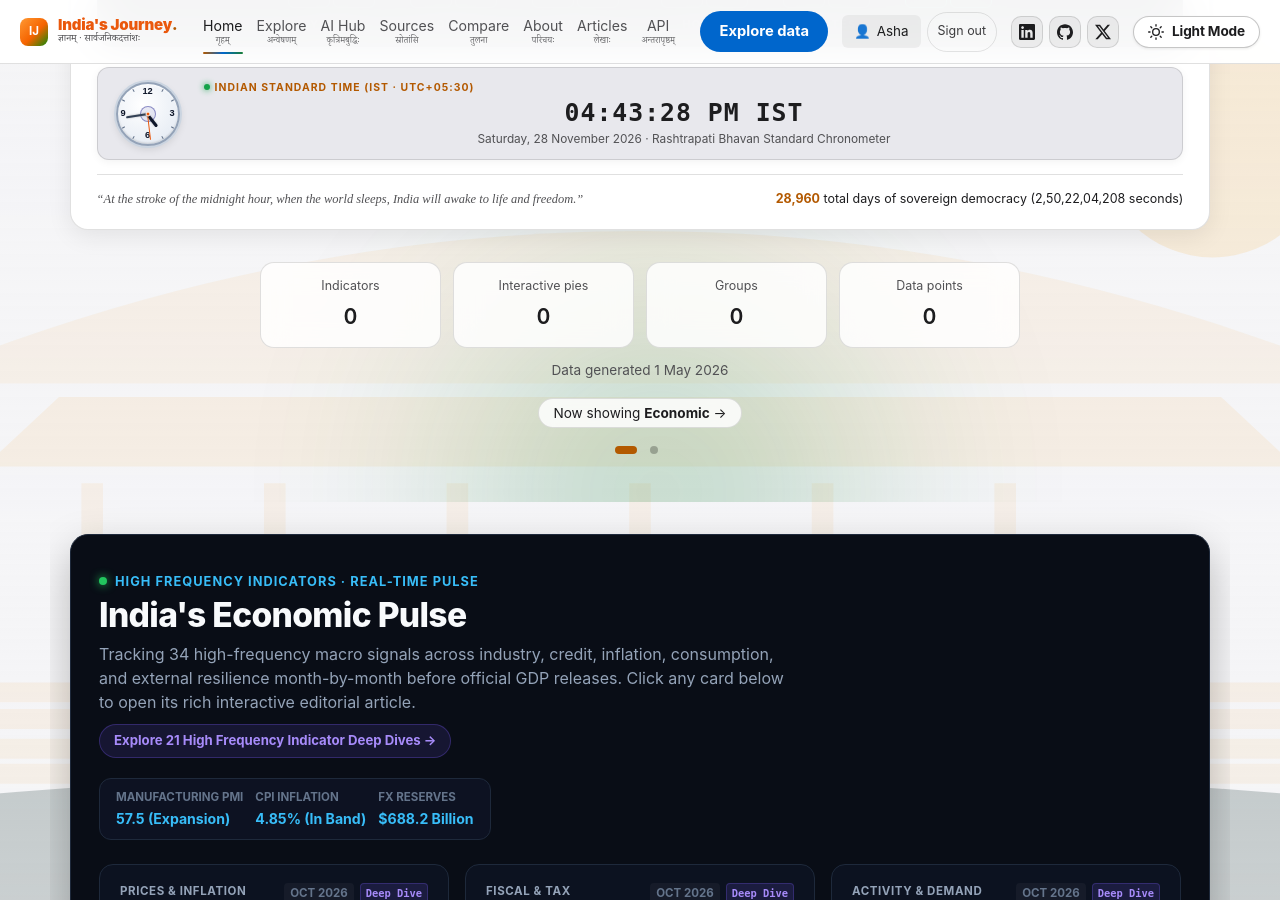
Scenario: Layout and Home › cycles the hero backdrop through group scenes with selectable dots
The width and height of the screenshot is (1280, 900).
(page scrolled)
Click the button named "Show Elections scene": click(654, 450) [642,438,666,462]
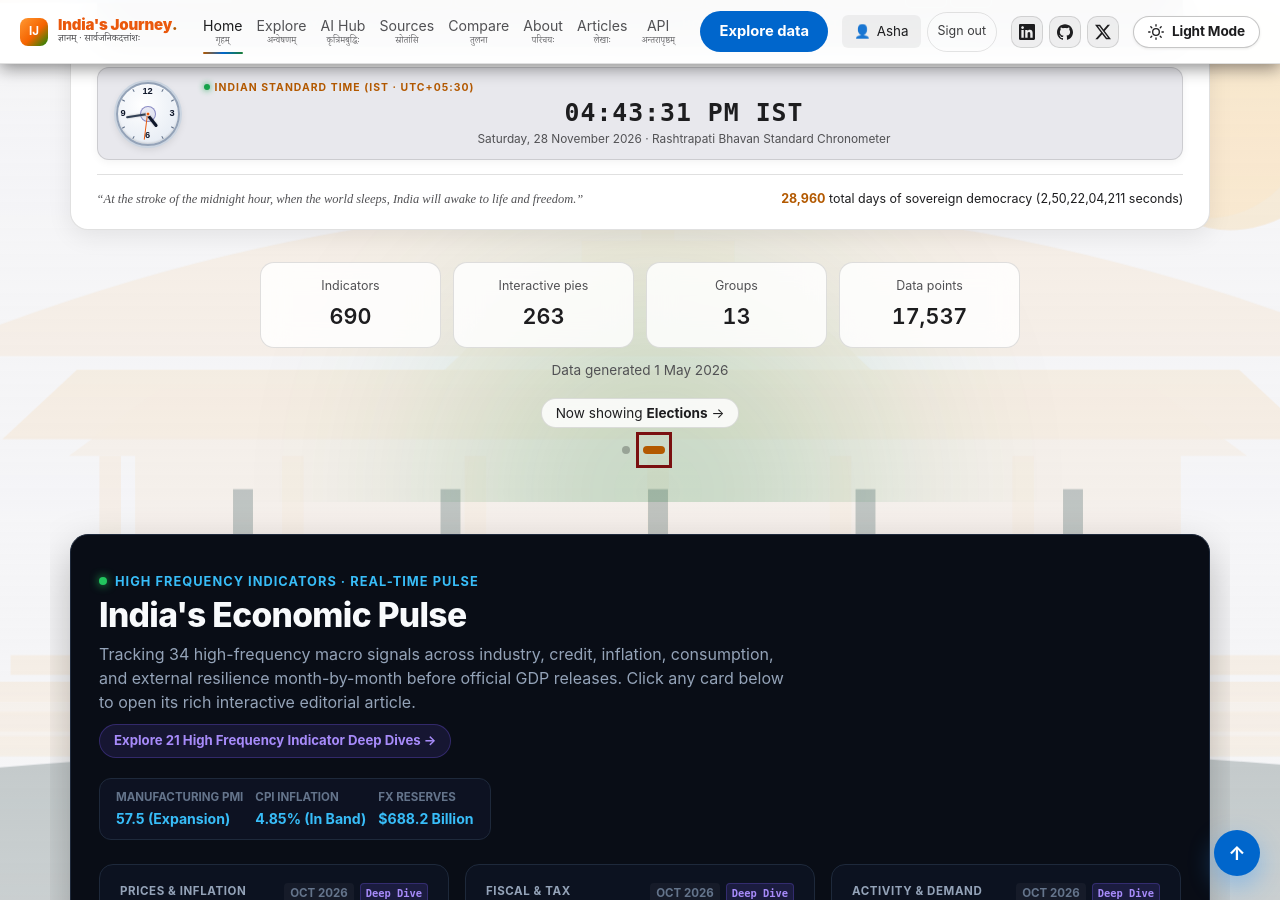
Expected: the number of pictures is 2
